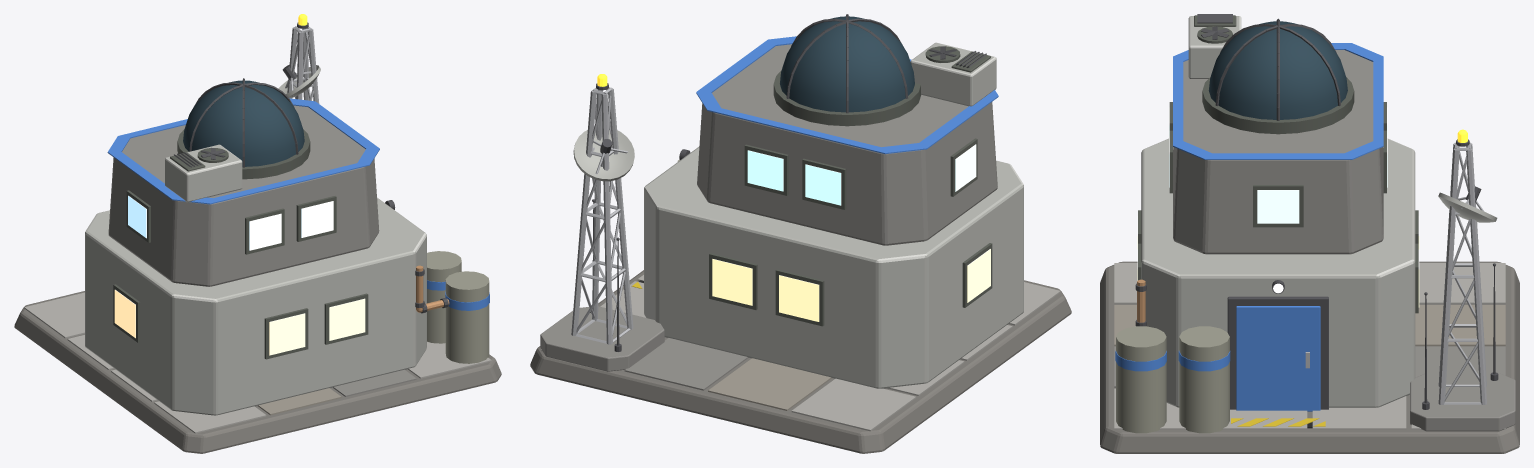
The model's file is tech_center_blue.glb.
3 renders of one model, left to right at view 1: azimuth 30°, elevation 25°; view 2: azimuth 150°, elevation 25°; view 3: azimuth 270°, elevation 25°, orthographic. The views are drawn at different scales.
Visible parts, largest first — view 1: Body; view 2: Body; view 3: Body.
Part boxes in pixels (bbox=[...]): Body: bbox=[14, 14, 501, 453]; Body: bbox=[530, 14, 1071, 453]; Body: bbox=[1100, 14, 1519, 453].
Bounding box in the file's own units: 3.98 × 3.4 × 3.98.
1 material, 1 textured.
